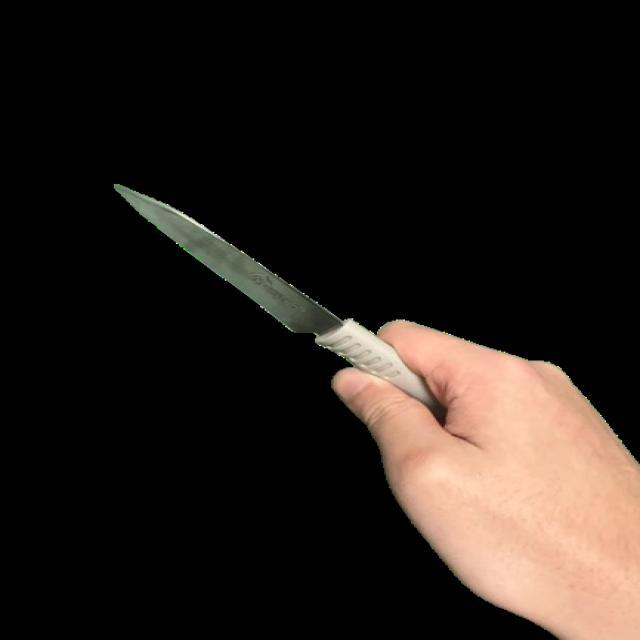knife: (76, 166, 437, 414)
